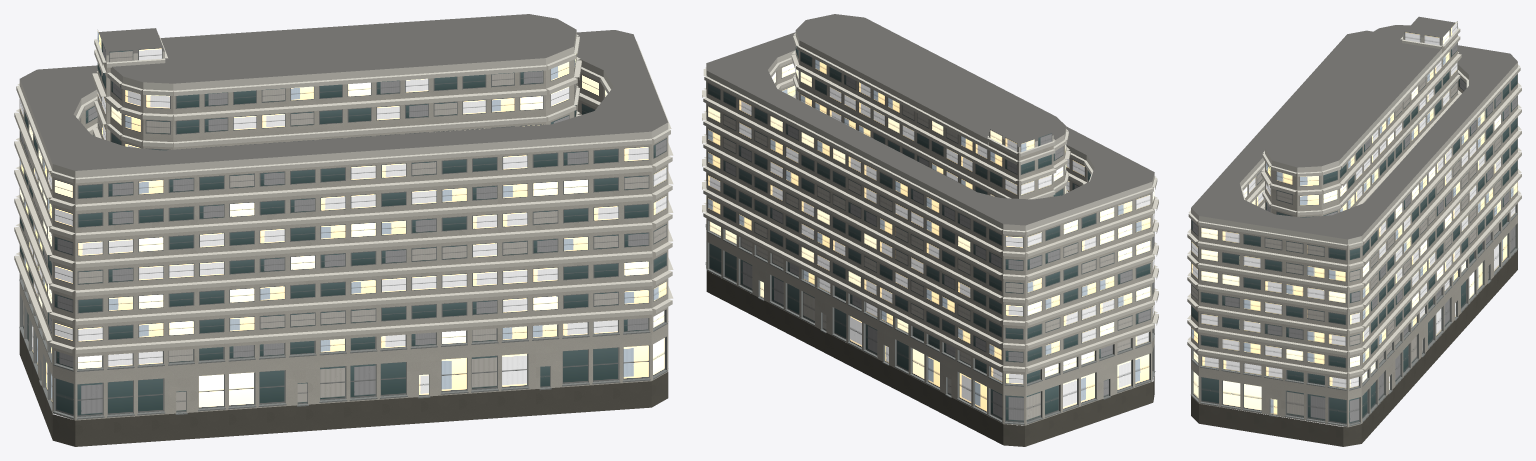
File: z5a_migros.glb
3 renders of one model, left to right at view 1: azimuth 30°, elevation 25°; view 2: azimuth 150°, elevation 25°; view 3: azimuth 270°, elevation 25°, orthographic. The views are drawn at different scales.
Parts seen in each view (by area): view 1: z5a_migros; view 2: z5a_migros; view 3: z5a_migros.
Part boxes in pixels (x1=…): z5a_migros: x1=14, y1=14, x2=673, y2=446; z5a_migros: x1=702, y1=14, x2=1158, y2=446; z5a_migros: x1=1187, y1=16, x2=1521, y2=446.
Size of the model in its own units: 68.58 by 38.76 by 45.73.
Materials: 3 (3 with a texture image).
